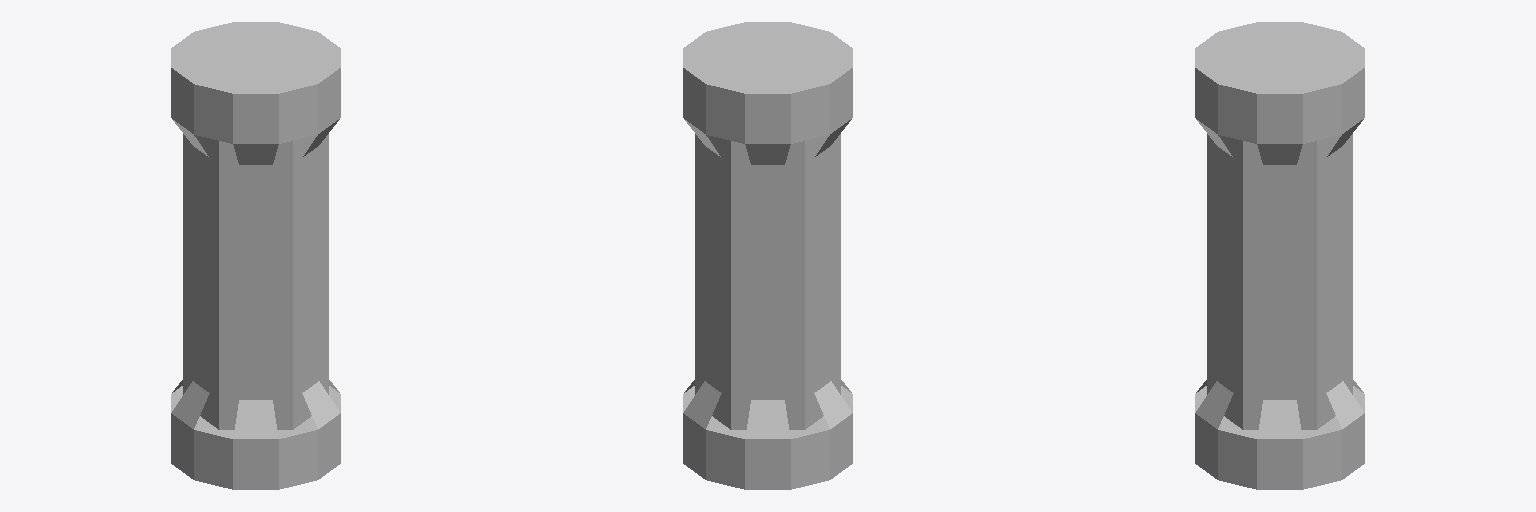
The model's file is power_coil-01-coil.obj.
The picture shows the model from 3 angles: view 1: azimuth 30°, elevation 25°; view 2: azimuth 150°, elevation 25°; view 3: azimuth 270°, elevation 25°; orthographic projection.
Parts seen in each view (by area): view 1: Cylinder, Cylinder.002_Cylinder.001, Cylinder.001; view 2: Cylinder, Cylinder.002_Cylinder.001, Cylinder.001; view 3: Cylinder, Cylinder.002_Cylinder.001, Cylinder.001.
Boxes of the visible parts, x1,y1,x2,y2 form: Cylinder: [183, 134, 328, 429]; Cylinder.002_Cylinder.001: [171, 22, 340, 164]; Cylinder.001: [171, 380, 340, 489]; Cylinder: [695, 134, 840, 429]; Cylinder.002_Cylinder.001: [683, 22, 852, 164]; Cylinder.001: [683, 380, 852, 489]; Cylinder: [1207, 134, 1352, 429]; Cylinder.002_Cylinder.001: [1195, 22, 1364, 164]; Cylinder.001: [1195, 380, 1364, 489].
Bounding box in the file's own units: 0.5796 × 1.49 × 0.5796.